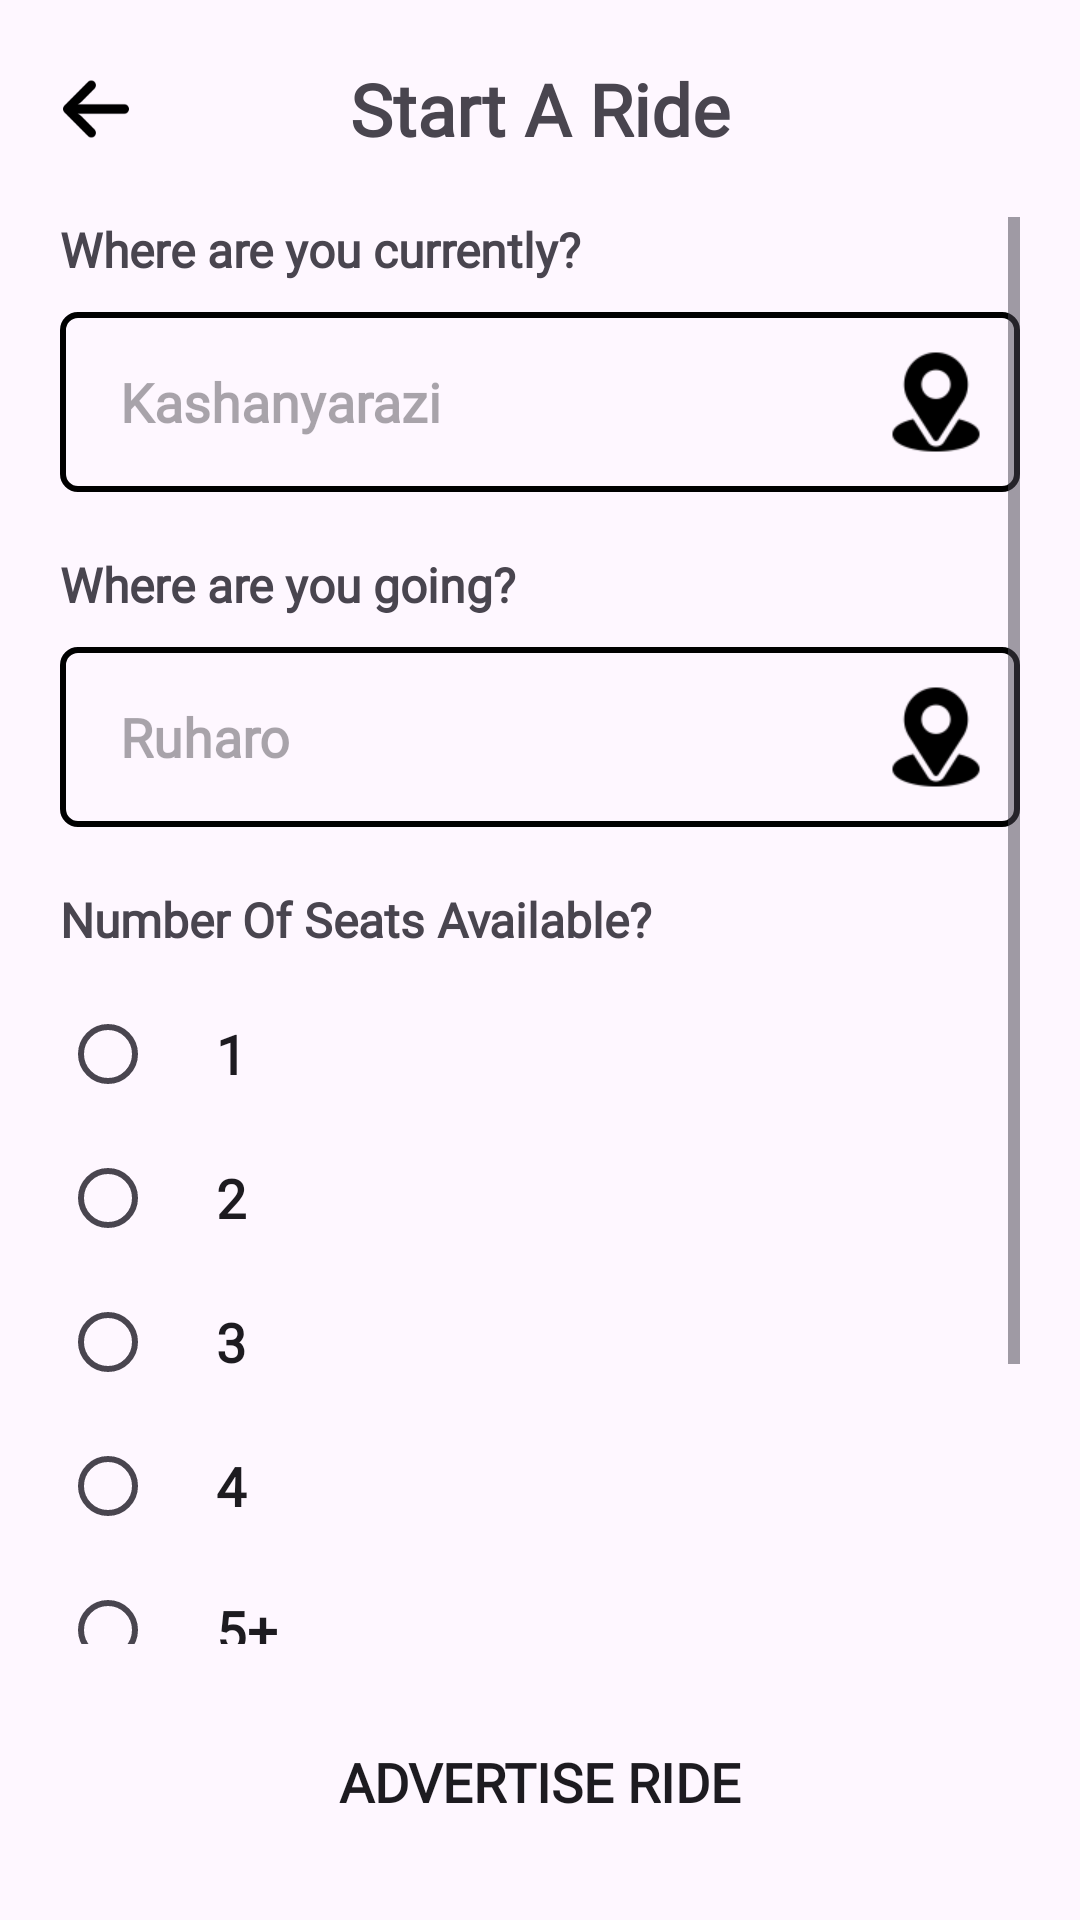

Screen size 1080px x 1920px. Icon name, then its center in pixels as point (x, y):
back arrow: point (96, 109)
map: point (936, 402), point (936, 737)
